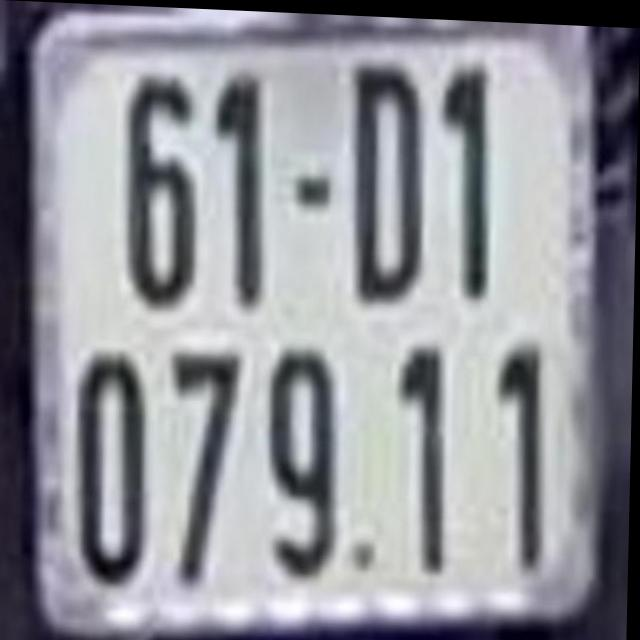0: (75, 350, 154, 576)
1: (441, 63, 508, 301), (494, 335, 559, 572), (393, 337, 458, 567), (212, 68, 274, 300)
6: (127, 71, 206, 306)
7: (168, 349, 246, 577)
9: (267, 341, 345, 579)
D: (349, 63, 424, 301)
